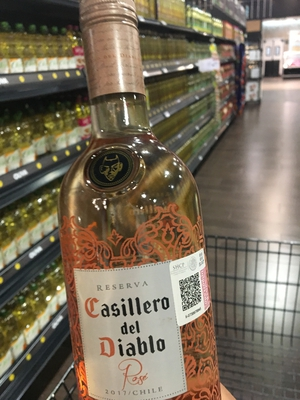casillero del diablo rose: (47, 13, 234, 400)
